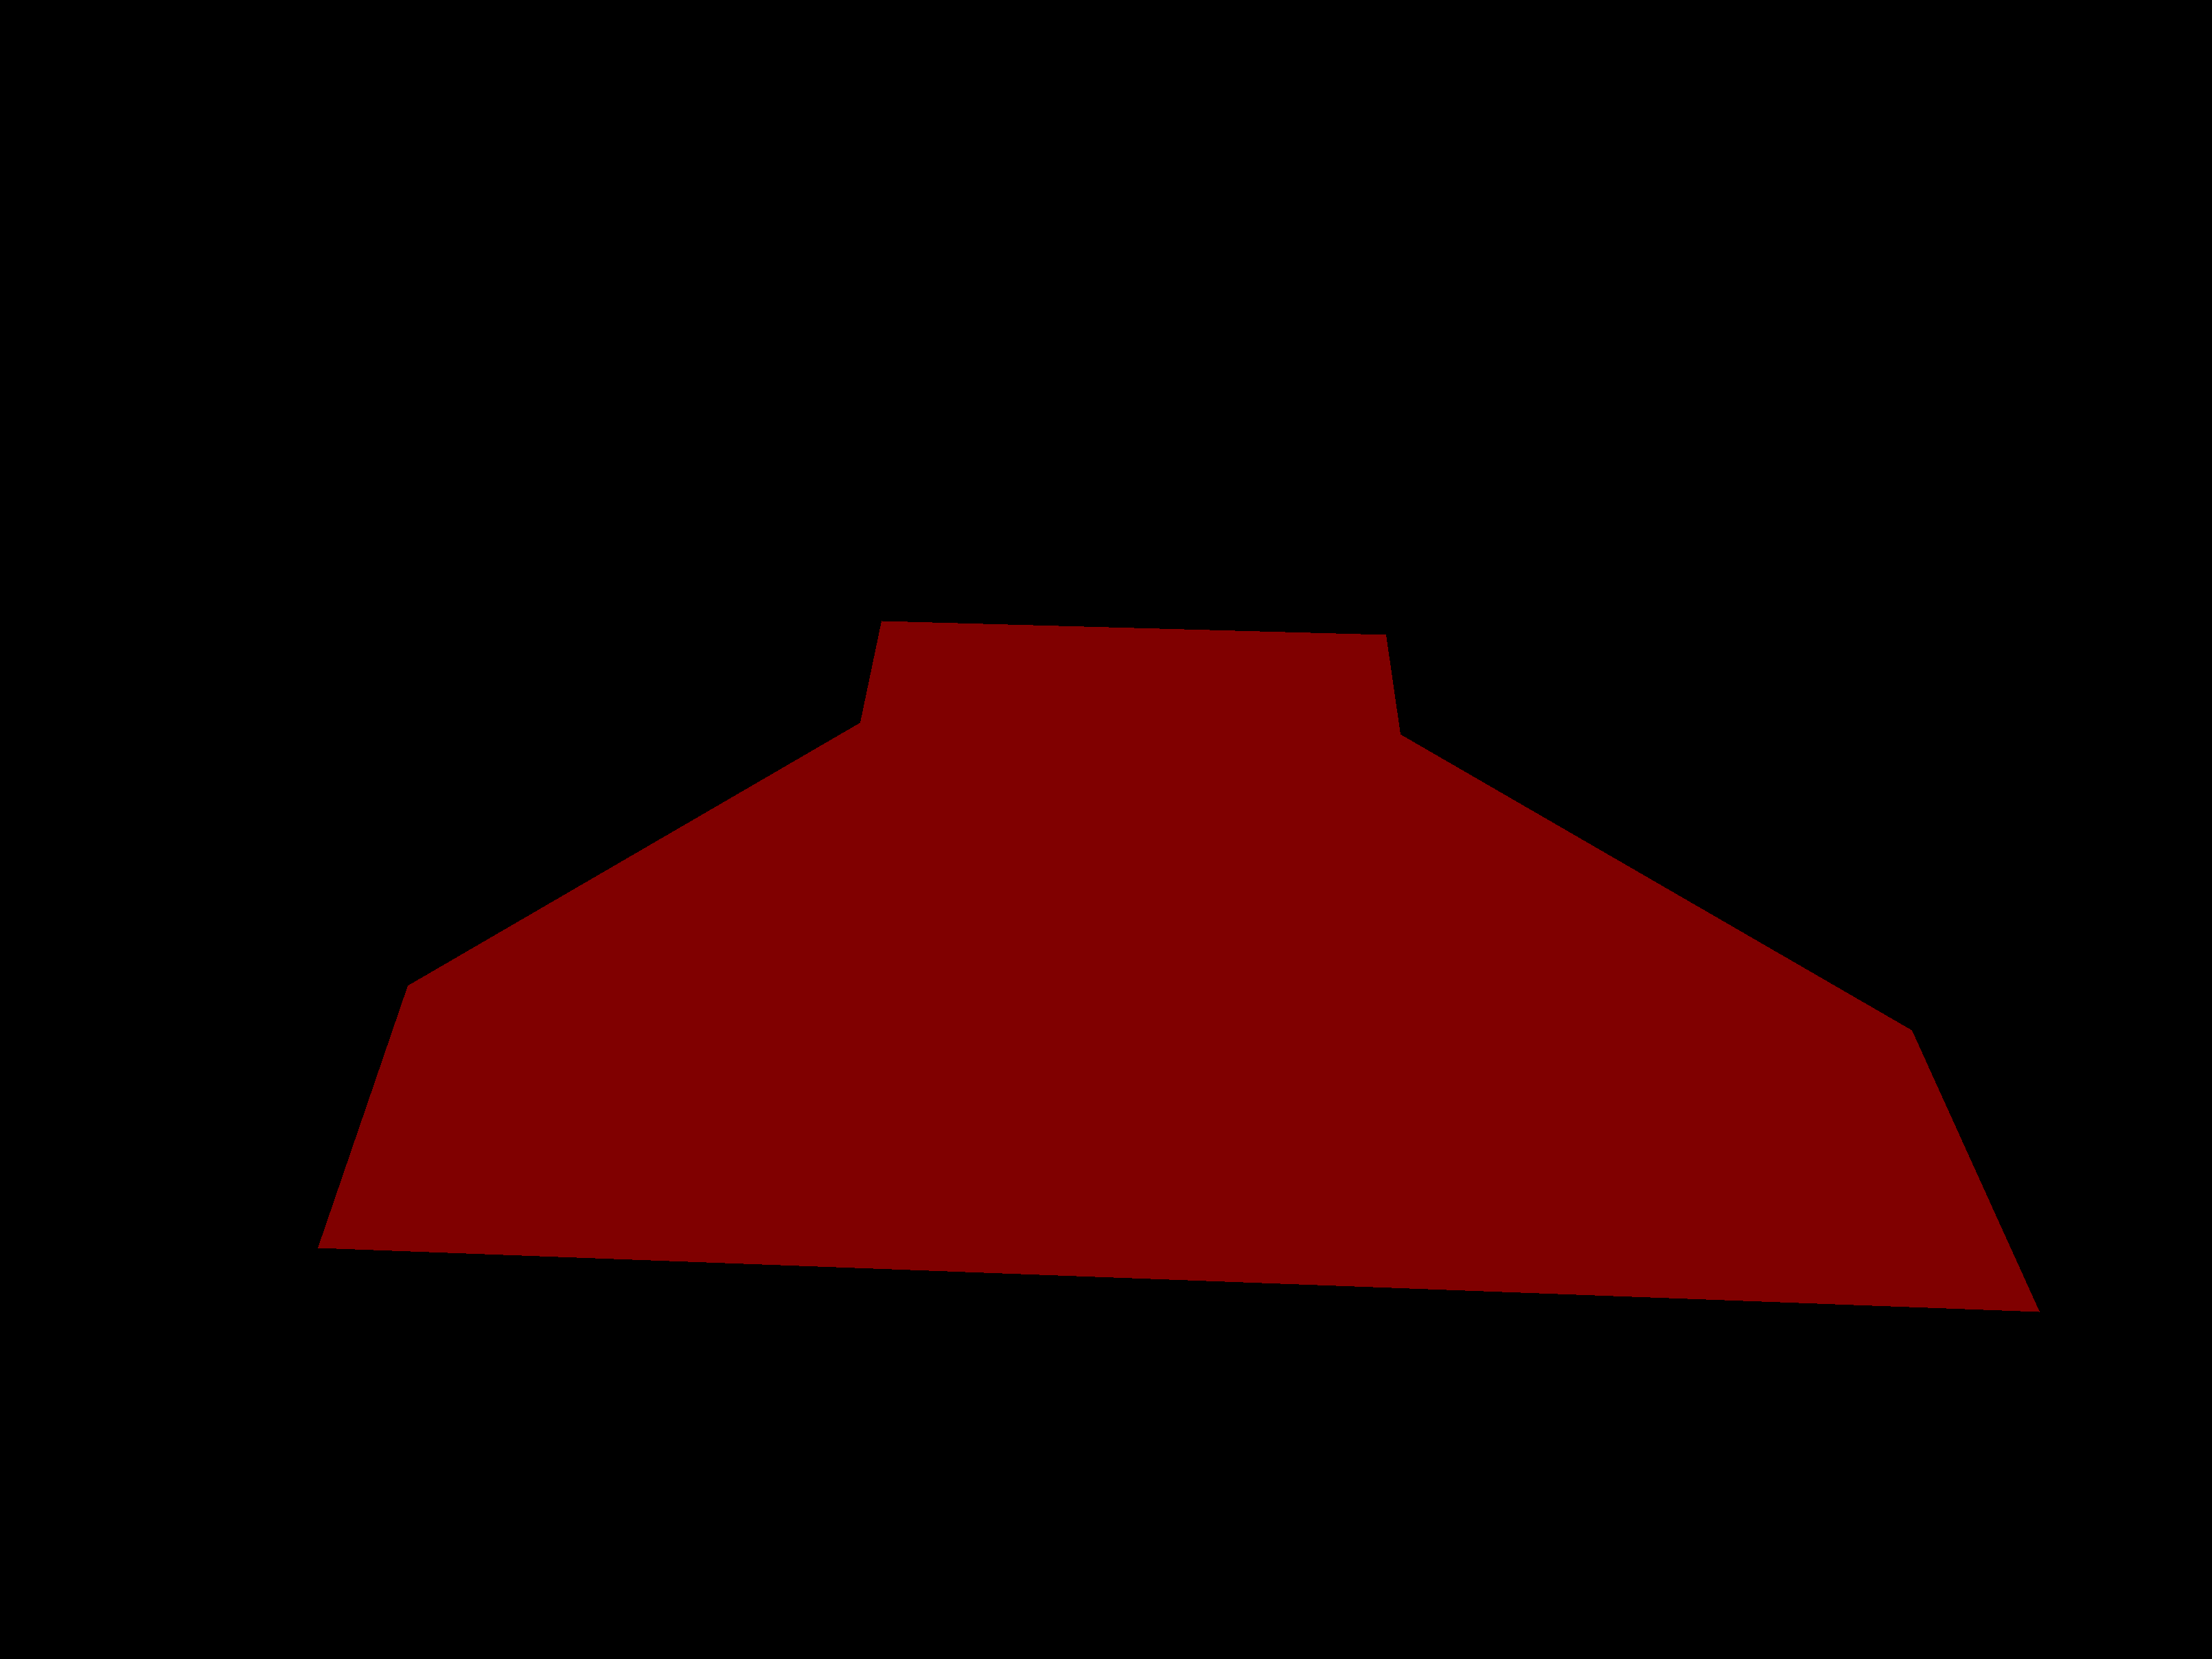stair: (317, 620, 2040, 1312)
